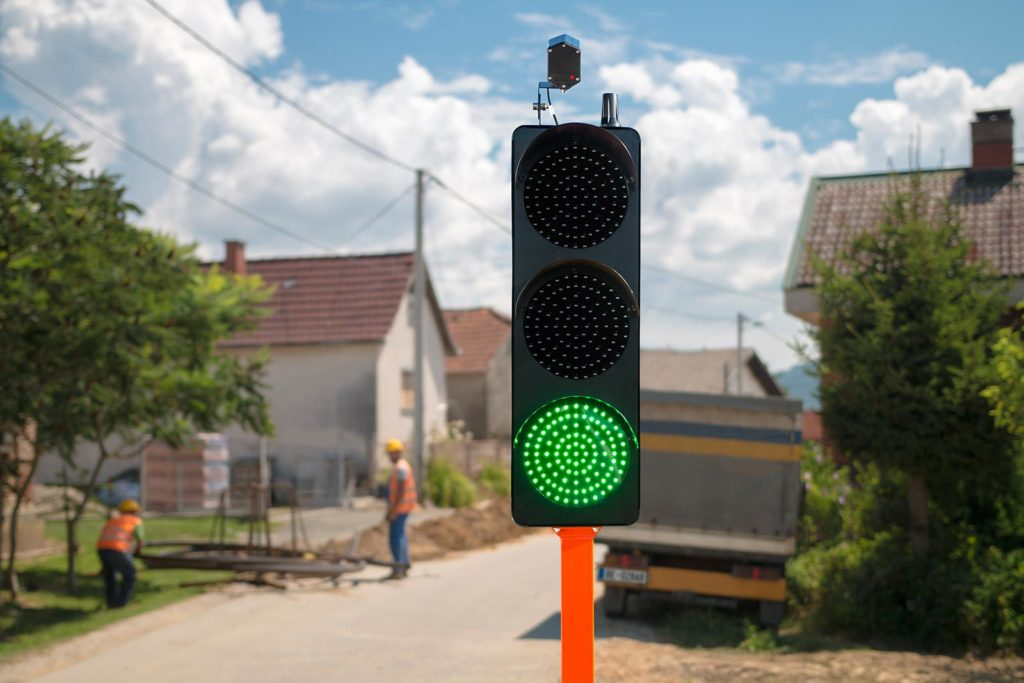trafficLight: (498, 112, 648, 537)
